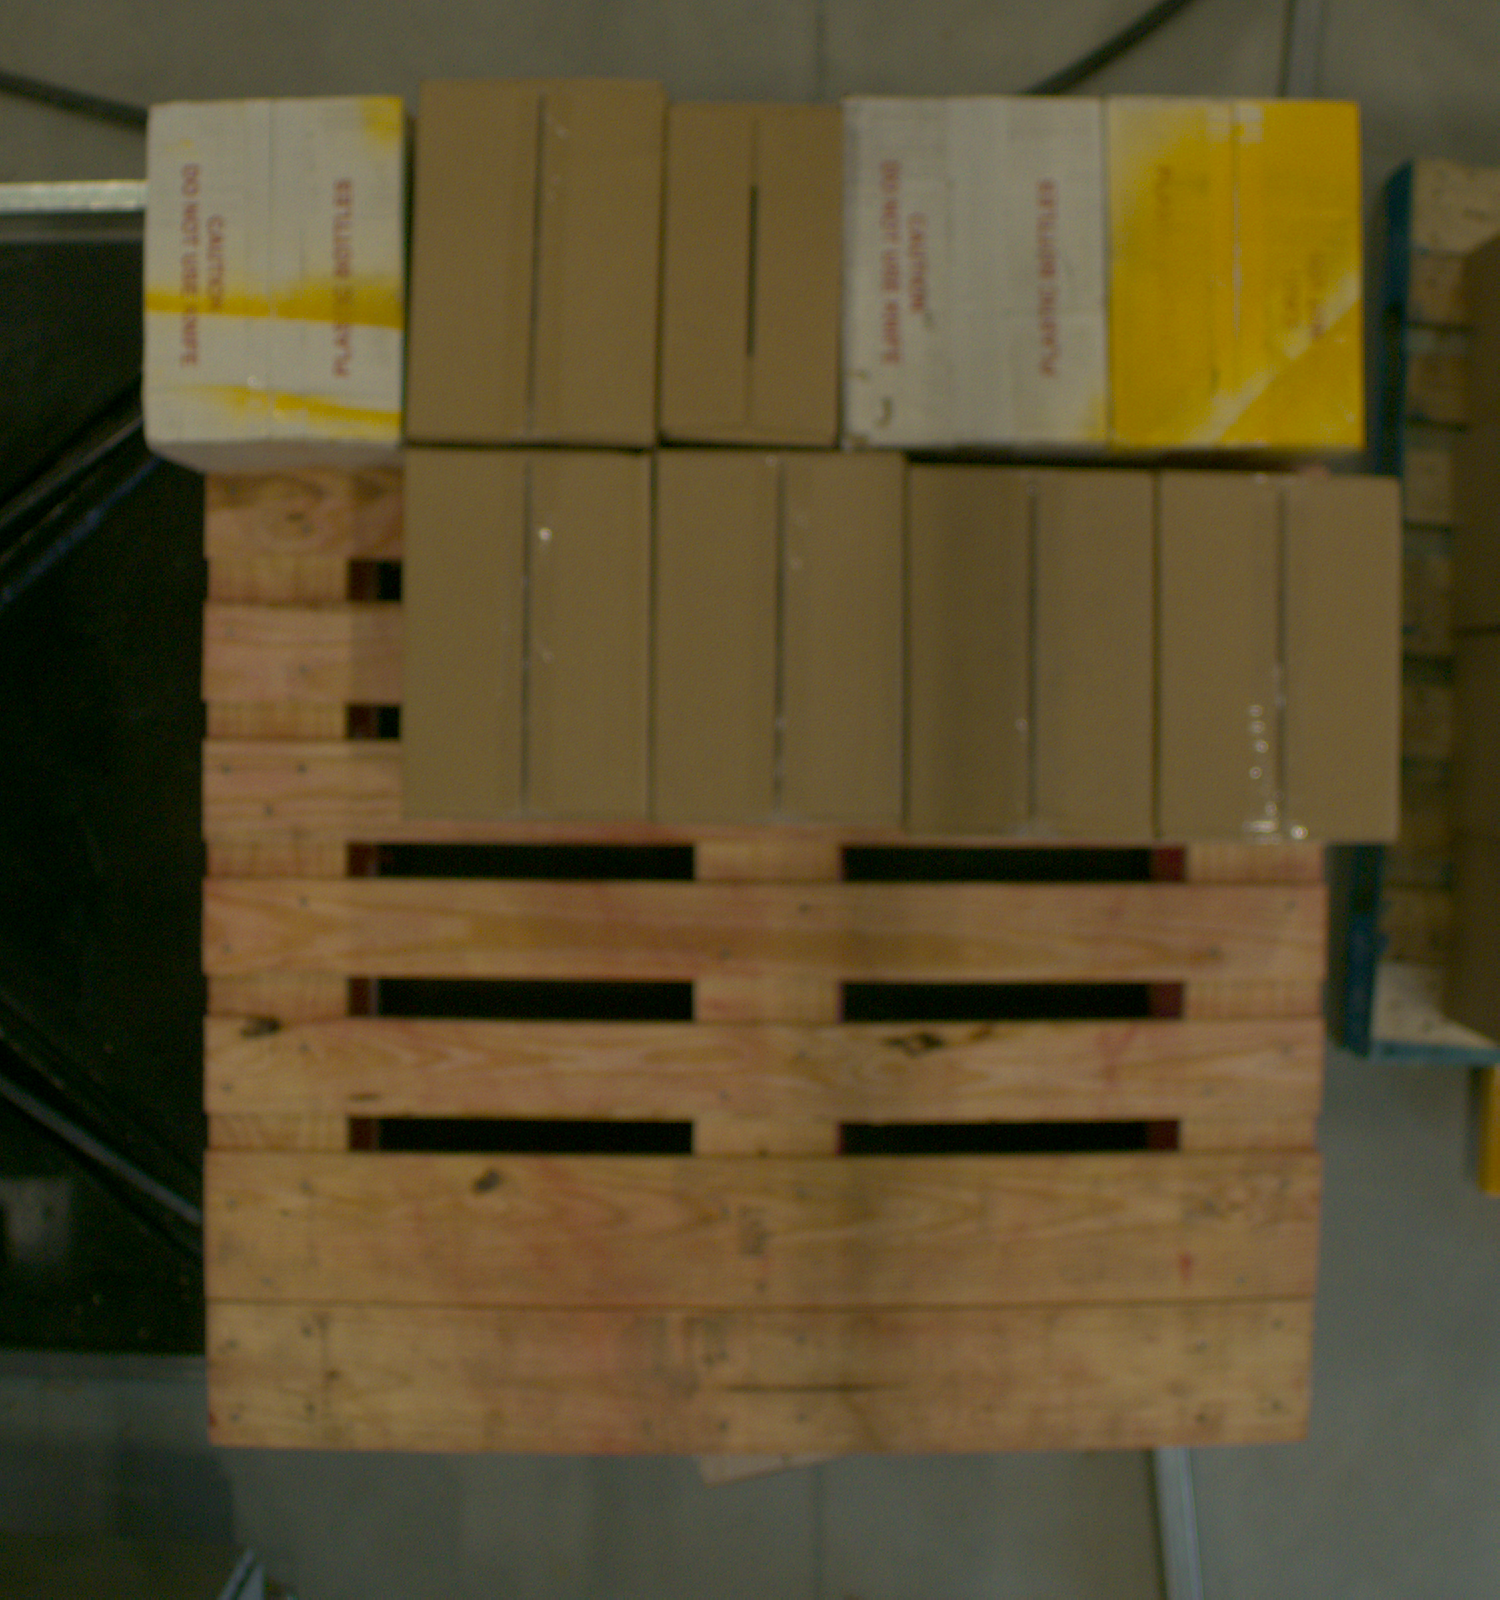box top: (651, 460, 905, 833), (407, 78, 663, 443), (144, 96, 405, 445), (909, 472, 1155, 842), (403, 453, 651, 818), (852, 97, 1109, 447), (1112, 99, 1367, 450), (1162, 475, 1398, 843), (661, 103, 844, 443)
